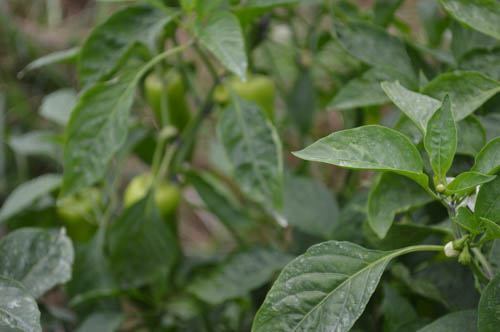ChiliPepper: (221, 76, 277, 137), (147, 75, 193, 131), (57, 189, 102, 243), (128, 178, 181, 217)
